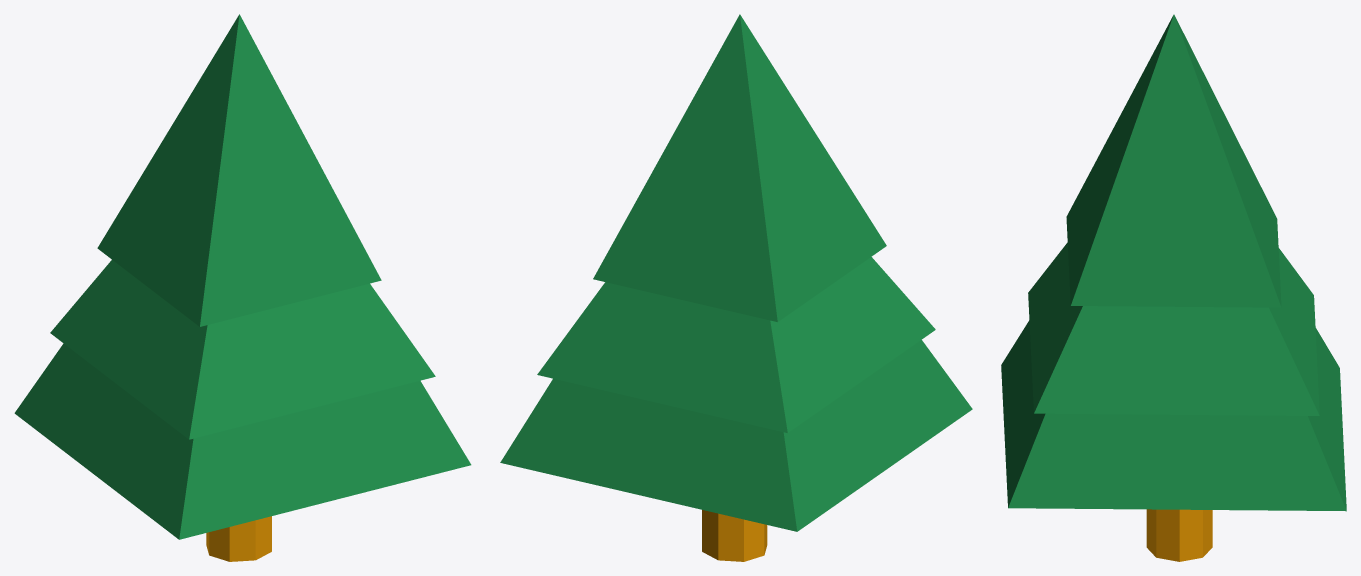
Rendered from arbre_01.fbx.
3 views of the same model, side by side, from view 1: azimuth 30°, elevation 25°; view 2: azimuth 150°, elevation 25°; view 3: azimuth 270°, elevation 25° (orthographic).
Parts seen in each view (by area): view 1: Cone.007, Cone.006, Cone.005, Cylinder.003; view 2: Cone.007, Cone.006, Cone.005, Cylinder.003; view 3: Cone.007, Cone.006, Cone.005, Cylinder.003.
Part boxes in pixels (box(x1,y1,x2,y2)): Cone.007: box(97, 14, 381, 326); Cone.006: box(14, 343, 471, 539); Cone.005: box(50, 260, 435, 439); Cylinder.003: box(206, 516, 271, 561); Cone.007: box(593, 14, 886, 322); Cone.006: box(500, 340, 972, 531); Cone.005: box(537, 257, 935, 433); Cylinder.003: box(702, 510, 767, 561); Cone.007: box(1066, 14, 1281, 307); Cone.006: box(1001, 320, 1346, 511); Cone.005: box(1028, 242, 1319, 415); Cylinder.003: box(1146, 509, 1212, 561).
Size of the model in its own units: 173 by 294 by 173.
